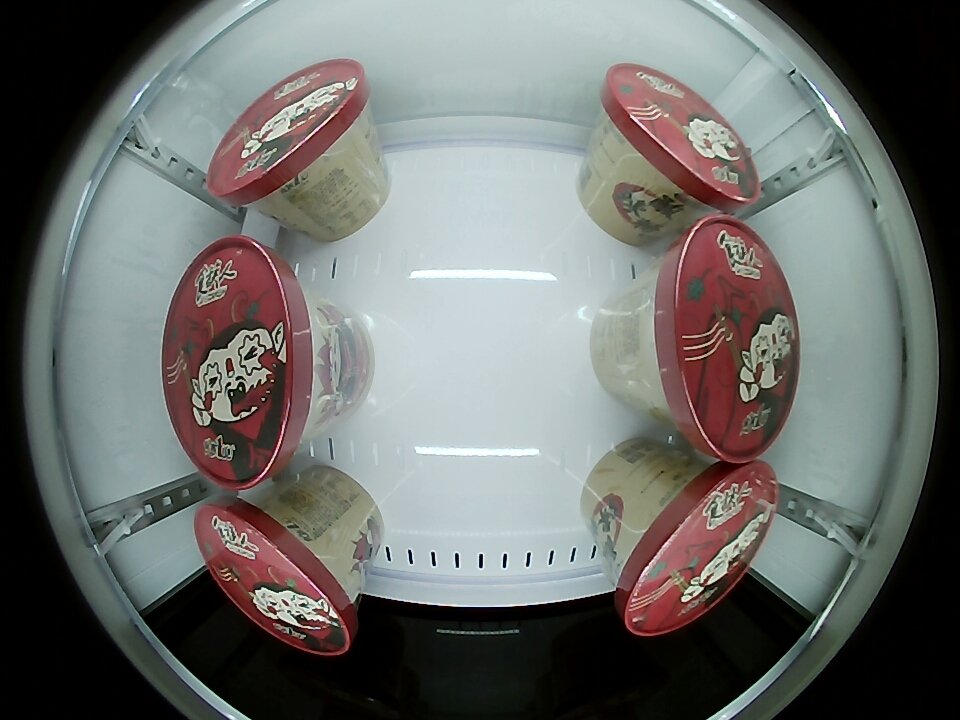suanlafen: (161, 237, 328, 490), (636, 217, 801, 462), (612, 462, 778, 635), (194, 499, 359, 656), (207, 60, 372, 208), (598, 64, 761, 213)
